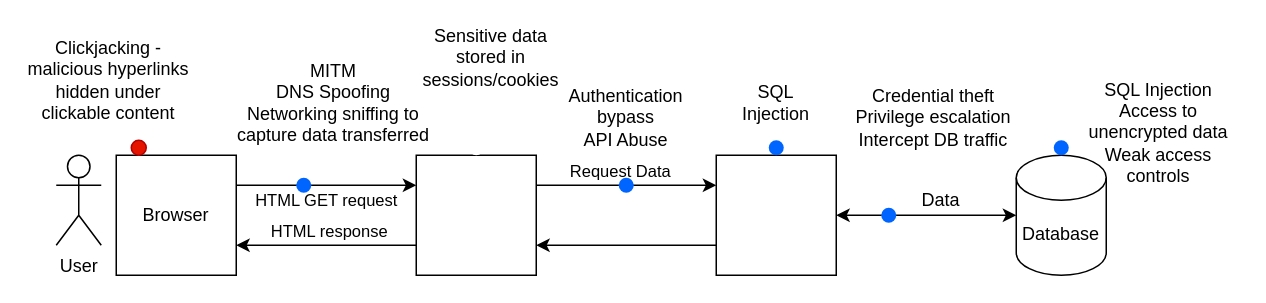
Image size: 1266x303. Some labels were removed from this diagram. The shapes that lost their labels are listed below. From the top down, each one's centre as x and y in pixels, then its label:
point 475,214: Web Application
point 775,214: Web Server
